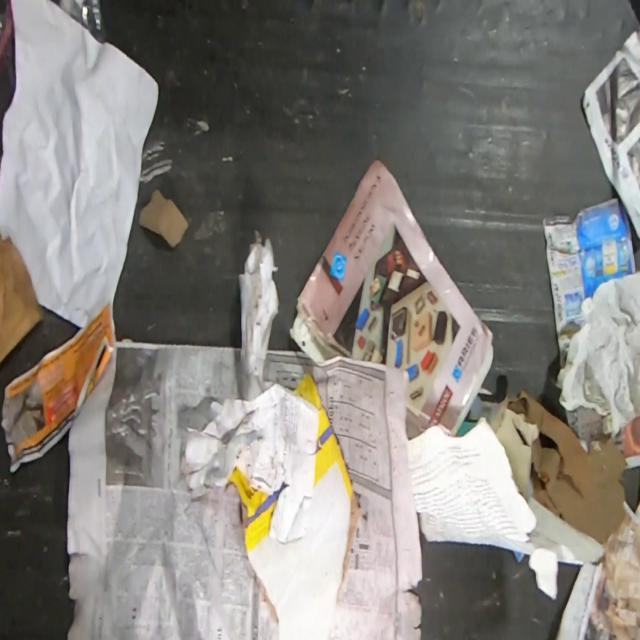cardboard: (227, 370, 362, 640), (506, 390, 630, 547), (540, 197, 636, 368), (0, 232, 44, 365), (139, 190, 189, 248)
soft_plastic: (56, 0, 106, 43)
